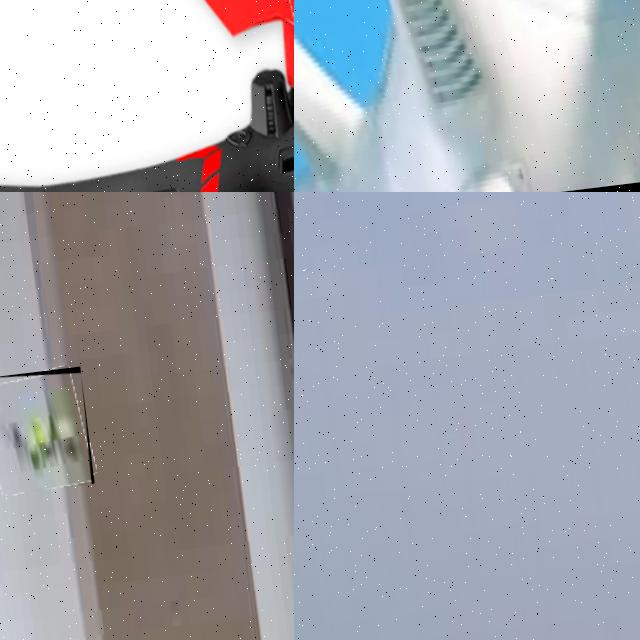drone: (294, 0, 640, 192), (0, 0, 294, 192), (0, 366, 94, 495)
